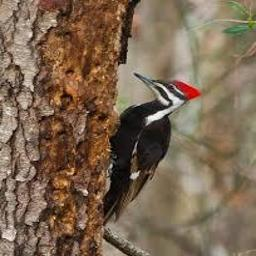Woodpecker: (103, 74, 201, 226)
